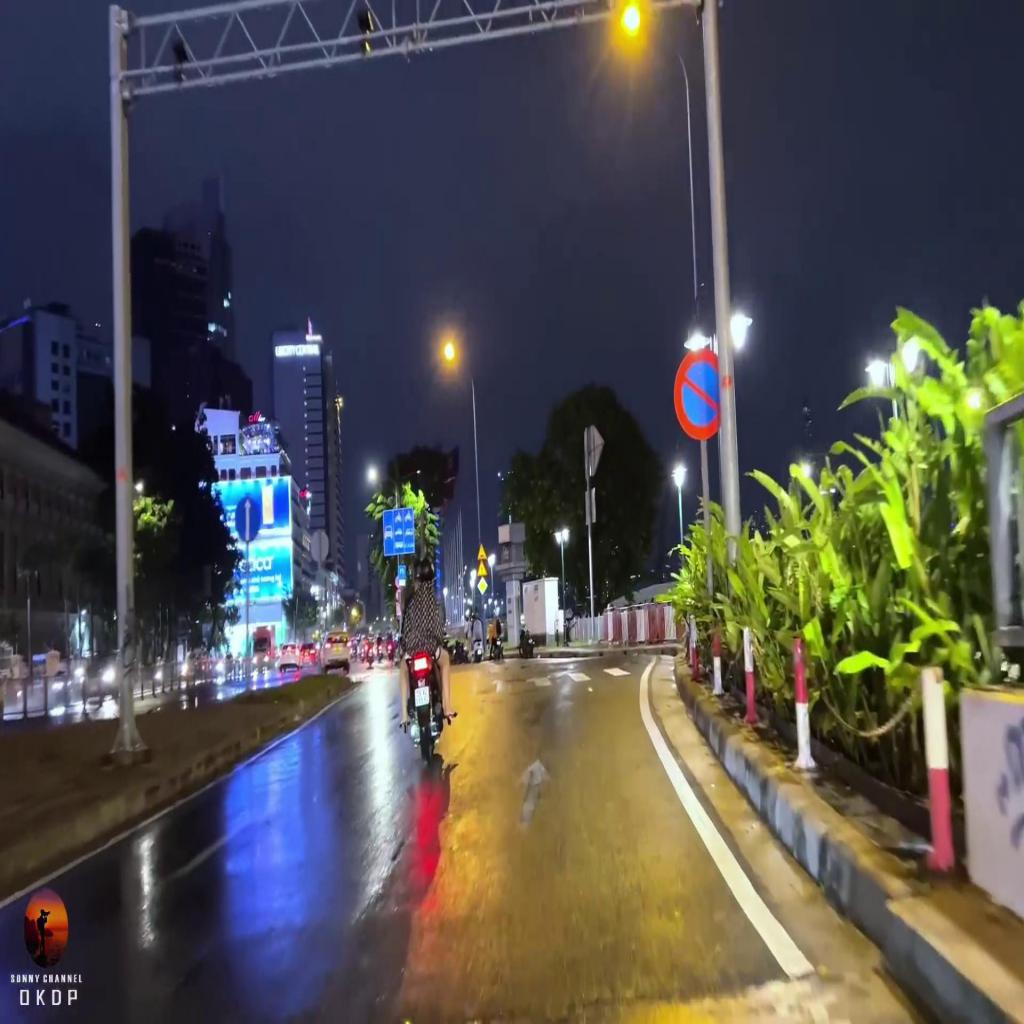cam_do_xe: (674, 349, 719, 444)
cho_quay_xe: (398, 566, 406, 578)
chu_y_nguoi_di_bo_cat_ngang: (477, 558, 488, 576)
duong_co_song_map_mo_nhan_tao: (477, 544, 488, 562)
duong_mot_chieu: (236, 495, 262, 544)
duong_uu_tien: (477, 576, 488, 596)
lan_duong_cho_tung_xe_theo_vach_ke_duong: (382, 508, 415, 555)
